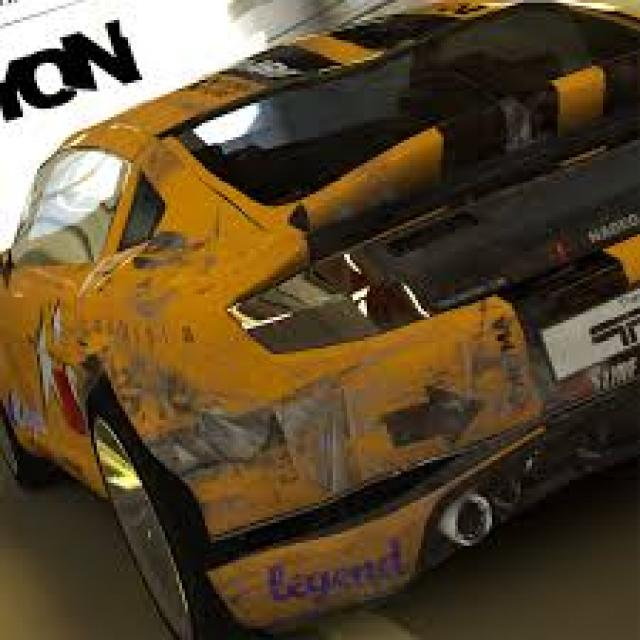moderate: (2, 42, 605, 567)
